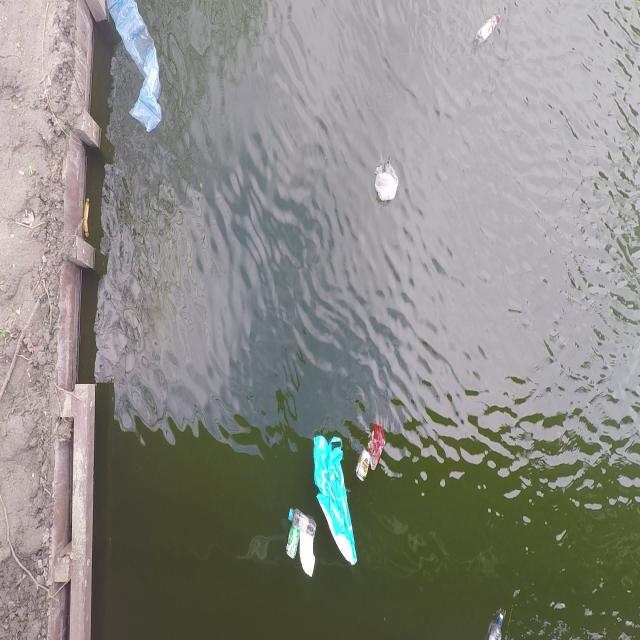Autre plastique: (300, 531, 317, 582)
Bouteille plastique: (286, 503, 317, 539), (474, 11, 503, 48), (489, 611, 505, 639)
Non plastique: (284, 523, 300, 565), (356, 449, 369, 483)
Sac plastique: (109, 1, 166, 136), (310, 426, 362, 569)
